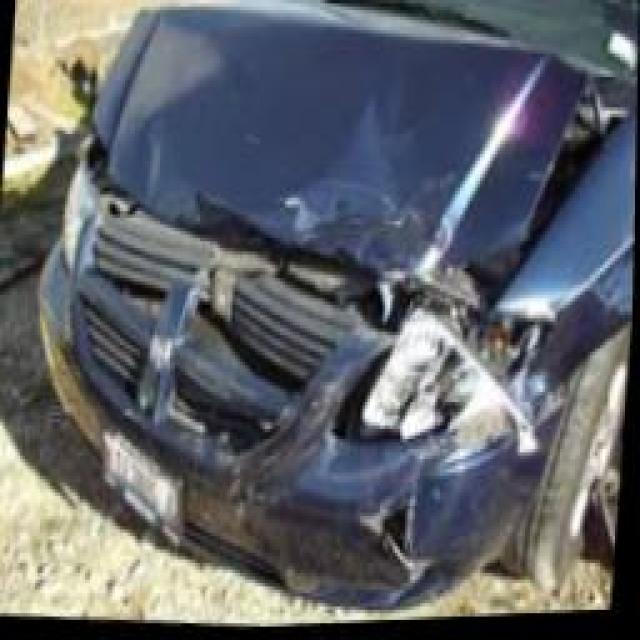Bonnet: (86, 0, 638, 320)
Bumper: (35, 194, 558, 618)
Light: (345, 309, 563, 439)
